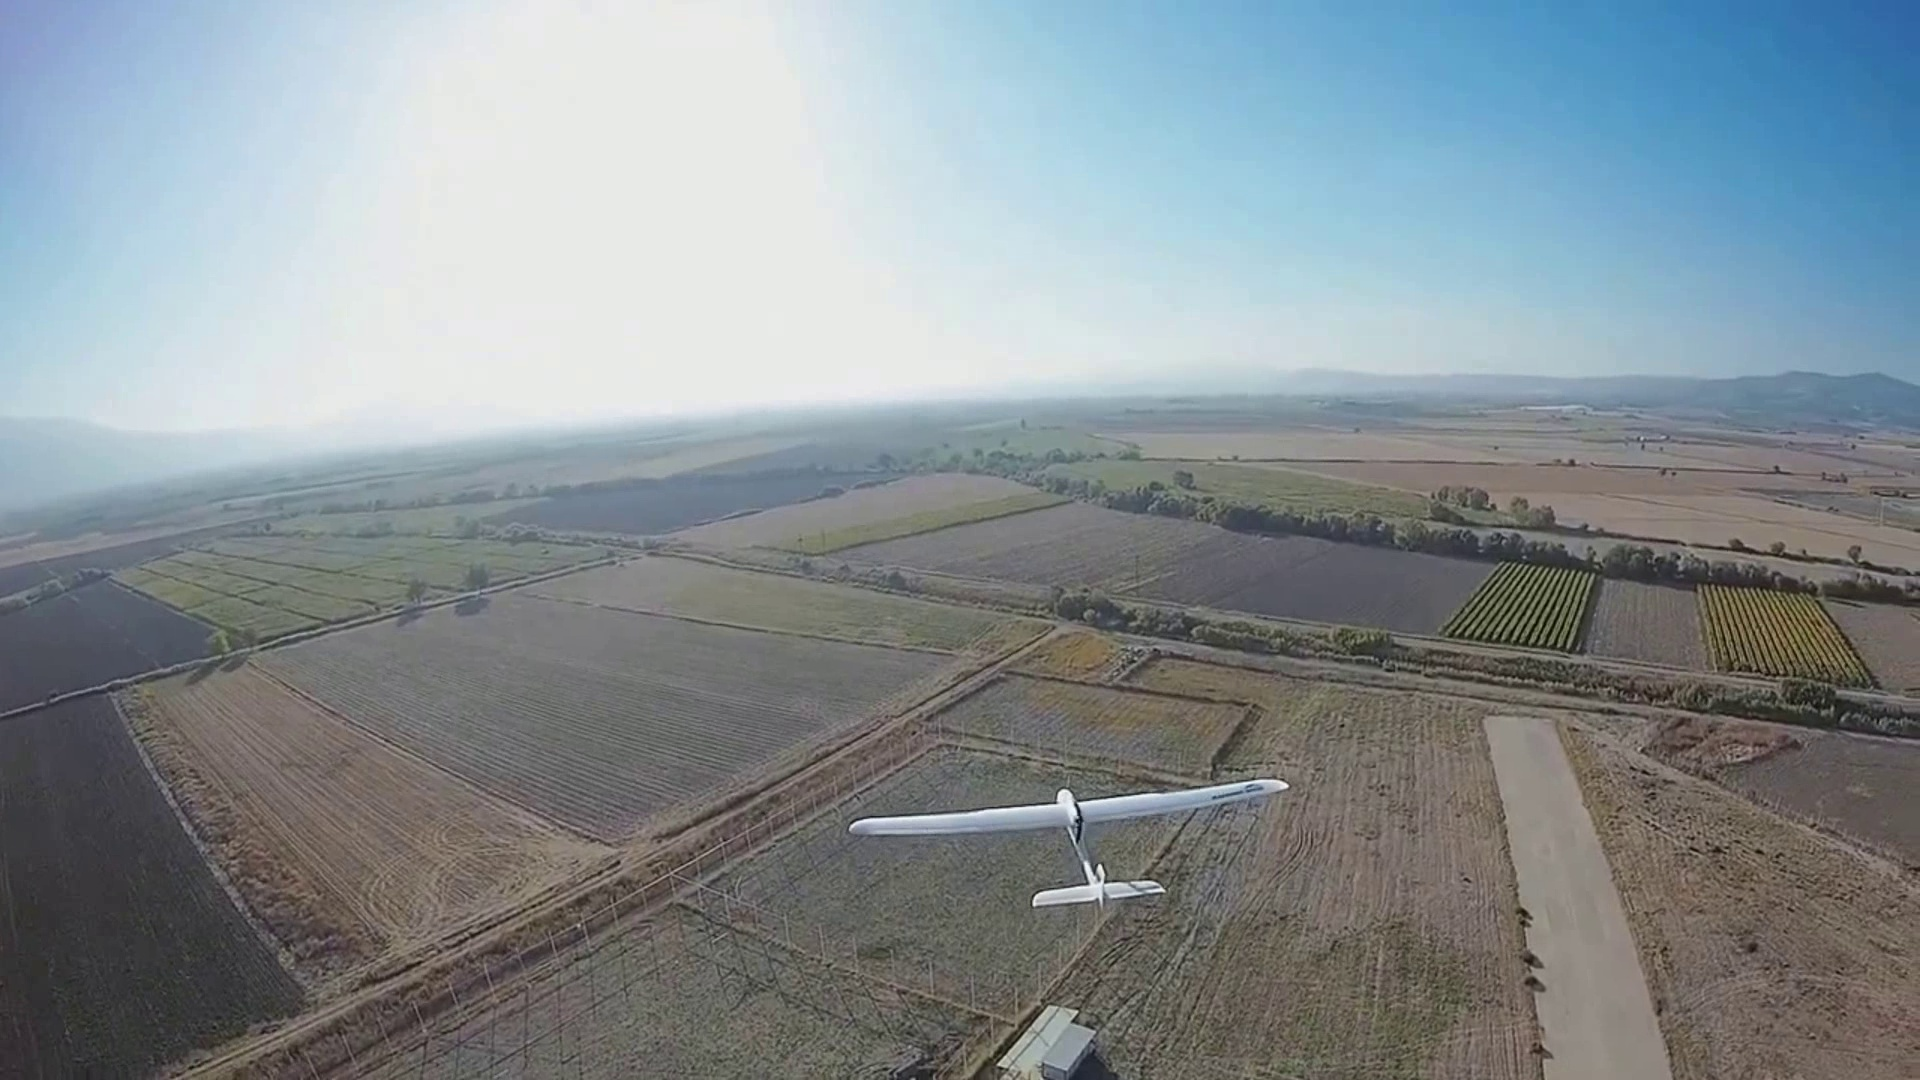airplane: (844, 775, 1290, 915)
